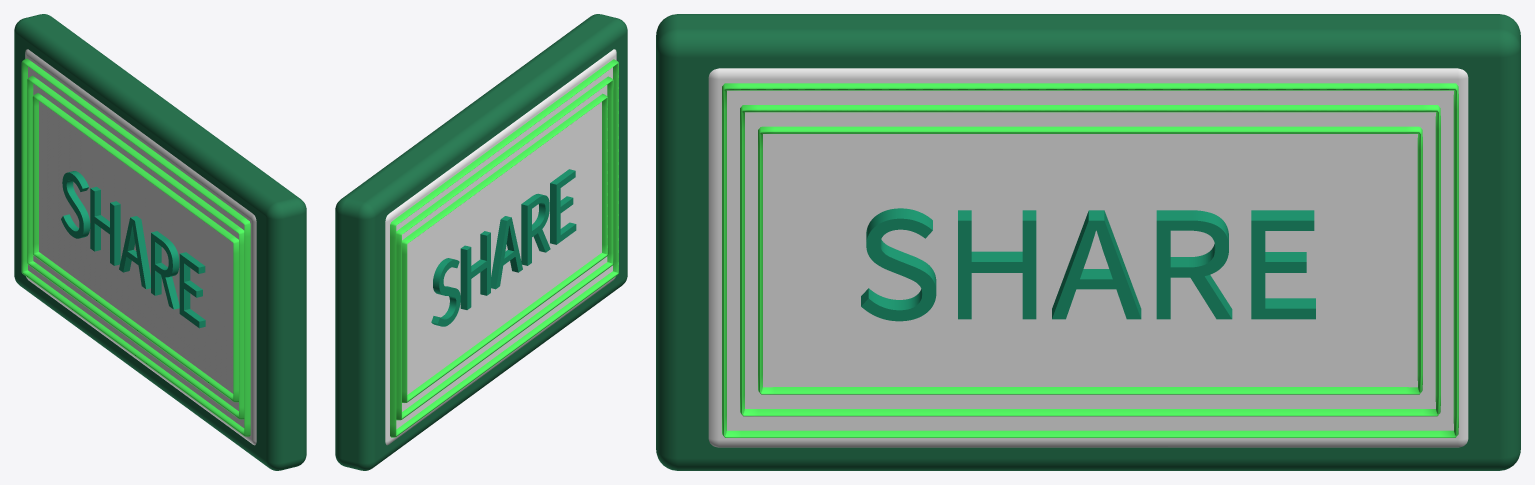
The model's file is signboard.gltf.
3 renders of one model, left to right at view 1: azimuth 30°, elevation 25°; view 2: azimuth 150°, elevation 25°; view 3: azimuth 270°, elevation 25°, orthographic. The views are drawn at different scales.
Visible parts, largest first — view 1: Cube 2, Cube, Text (×6), Rectangle 3, Rectangle 2, Rectangle 1; view 2: Cube 2, Cube, Rectangle 3, Text (×5), Rectangle 2, Rectangle 1; view 3: Cube 2, Cube, Text (×6), Rectangle 3, Rectangle 2, Rectangle 1.
Boxes of the visible parts, x1=… form: Cube 2: x1=25, y1=49, x2=256, y2=445; Cube: x1=14, y1=14, x2=306, y2=470; Text (×6): x1=61, y1=171, x2=205, y2=328; Rectangle 3: x1=21, y1=58, x2=250, y2=436; Rectangle 2: x1=27, y1=75, x2=244, y2=419; Rectangle 1: x1=32, y1=93, x2=238, y2=402; Cube 2: x1=385, y1=49, x2=616, y2=445; Cube: x1=335, y1=14, x2=627, y2=470; Rectangle 3: x1=390, y1=59, x2=618, y2=437; Text (×5): x1=431, y1=169, x2=576, y2=326; Rectangle 2: x1=396, y1=76, x2=613, y2=420; Rectangle 1: x1=402, y1=93, x2=608, y2=402; Cube 2: x1=708, y1=68, x2=1468, y2=447; Cube: x1=656, y1=14, x2=1520, y2=470; Text (×6): x1=861, y1=208, x2=1315, y2=321; Rectangle 3: x1=722, y1=83, x2=1458, y2=437; Rectangle 2: x1=740, y1=105, x2=1440, y2=416; Rectangle 1: x1=758, y1=126, x2=1422, y2=394.
Size of the model in its own units: 0.4329 by 1.78 by 3.17.
